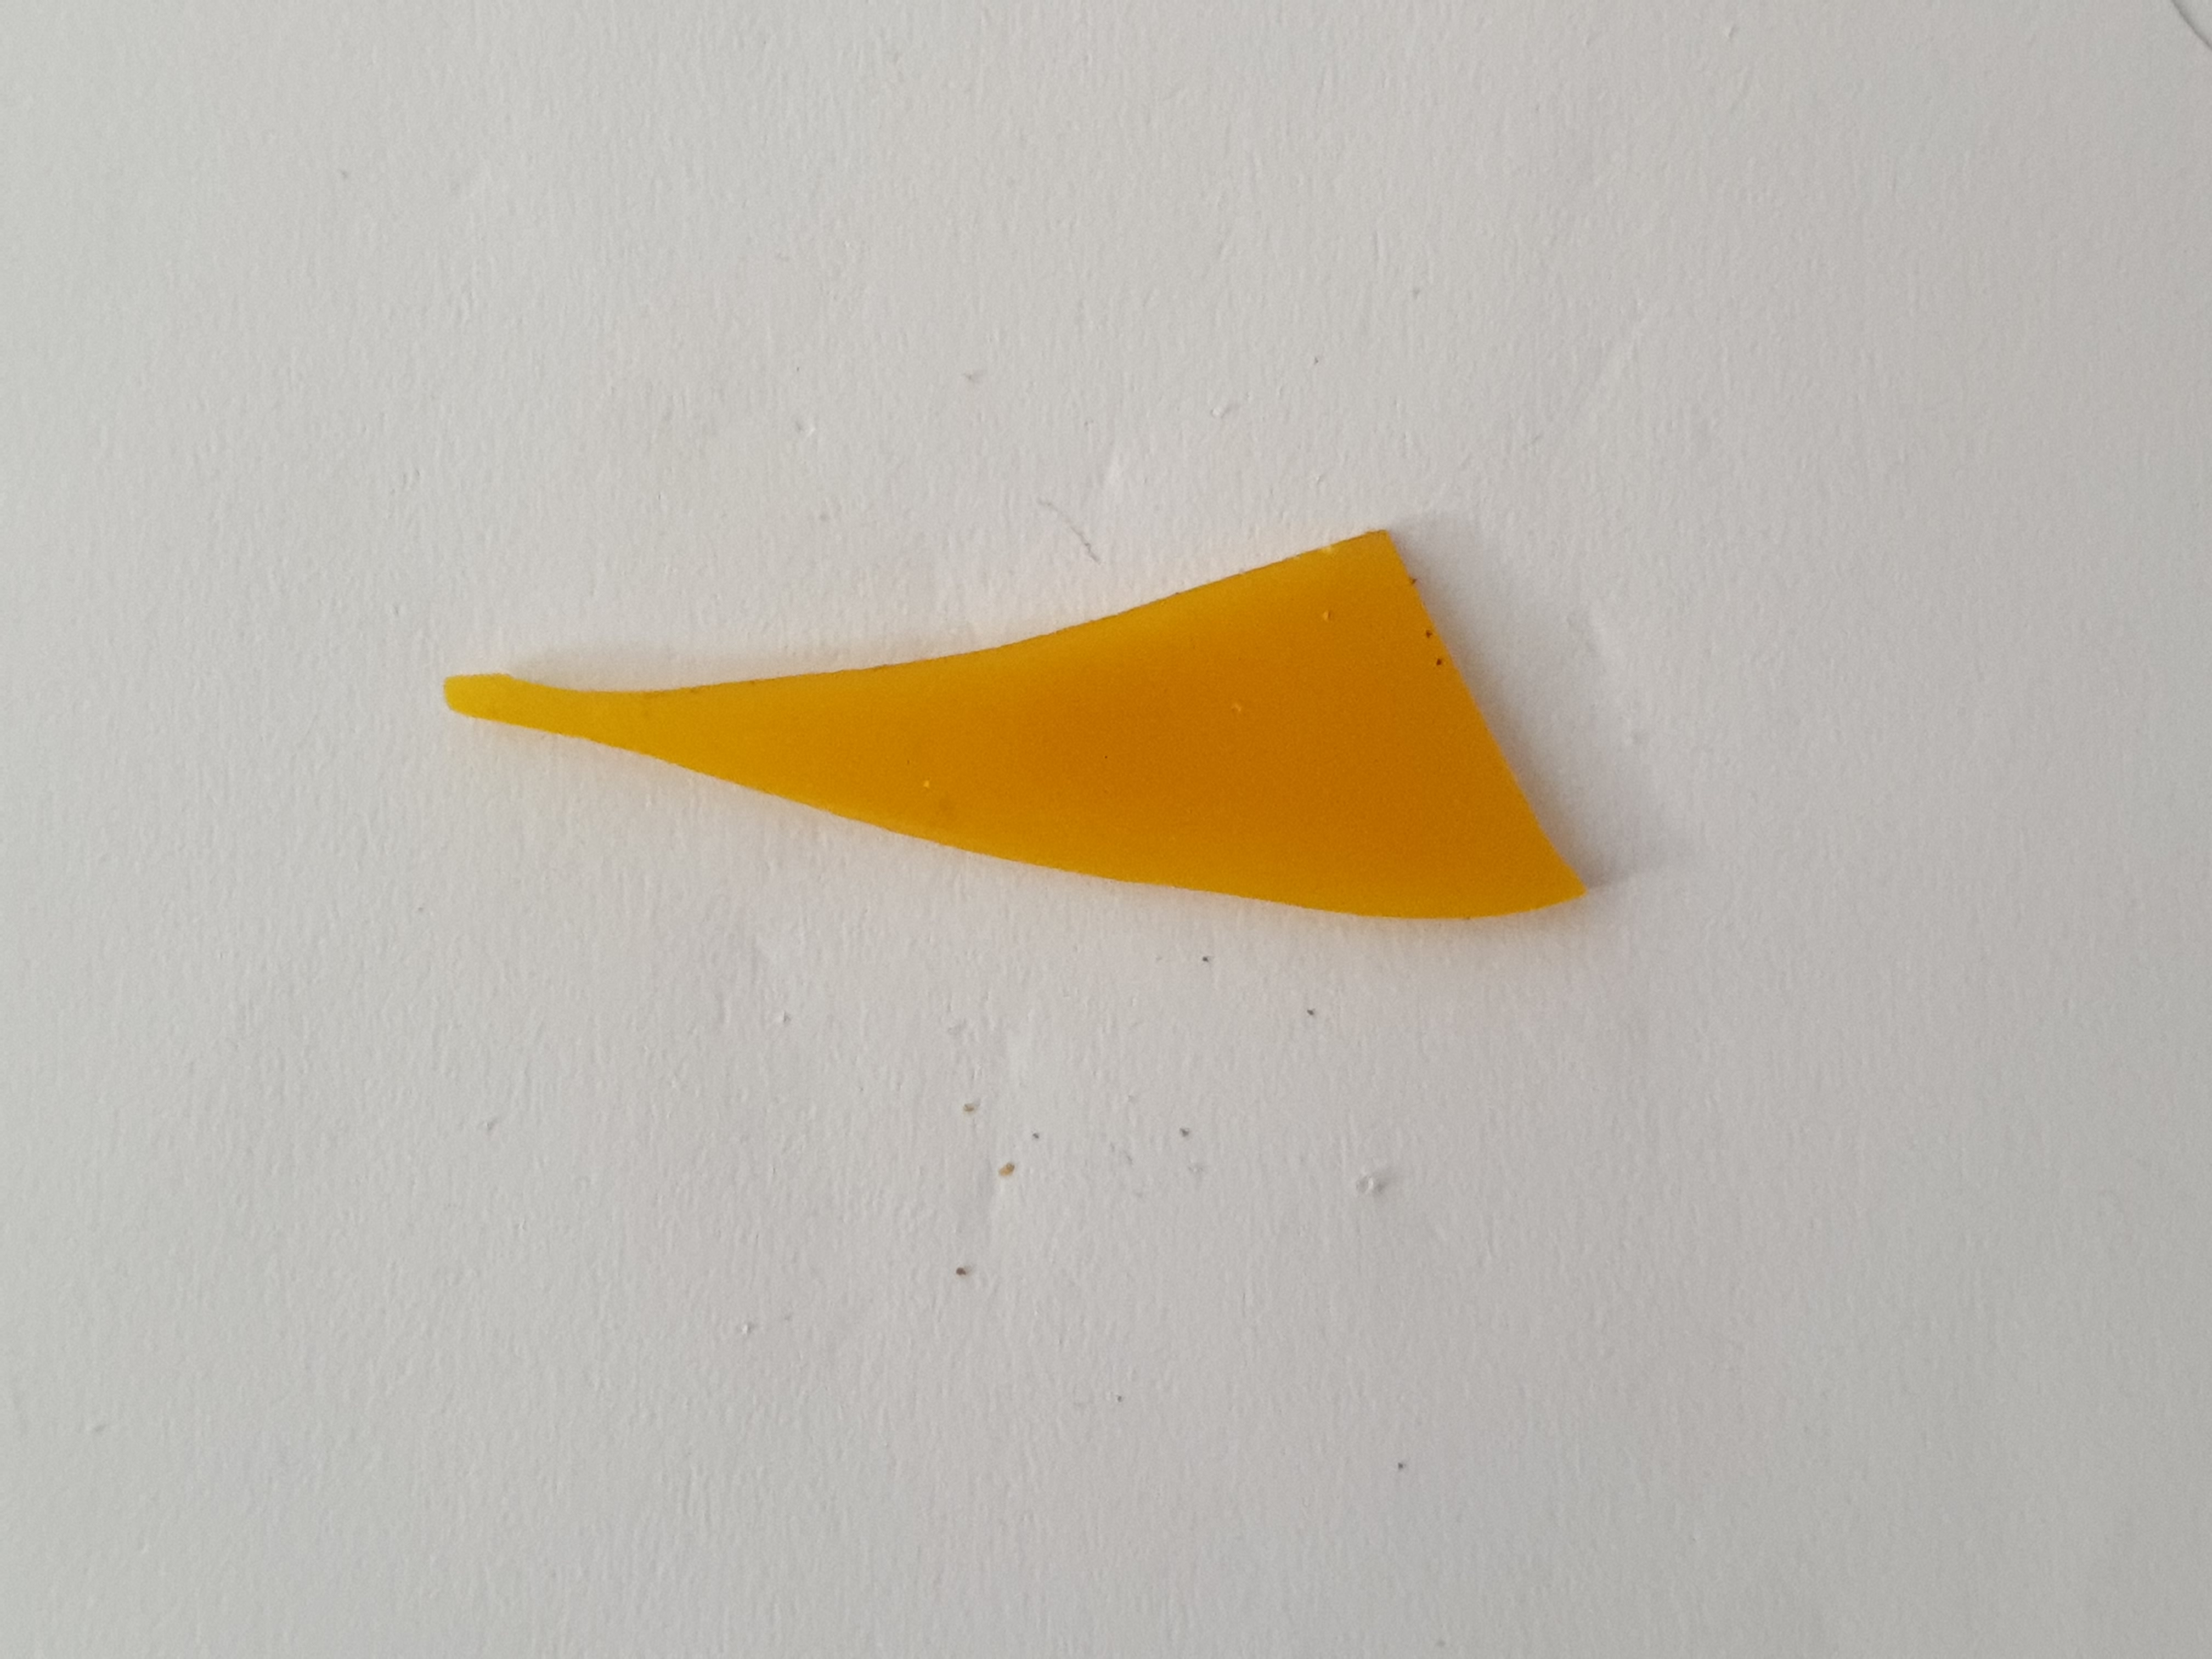plastic: (408, 495, 1623, 943)
